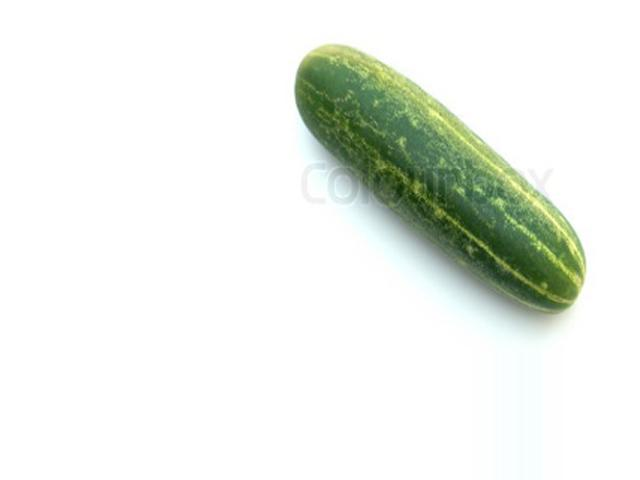cucumber: (295, 42, 588, 312)
